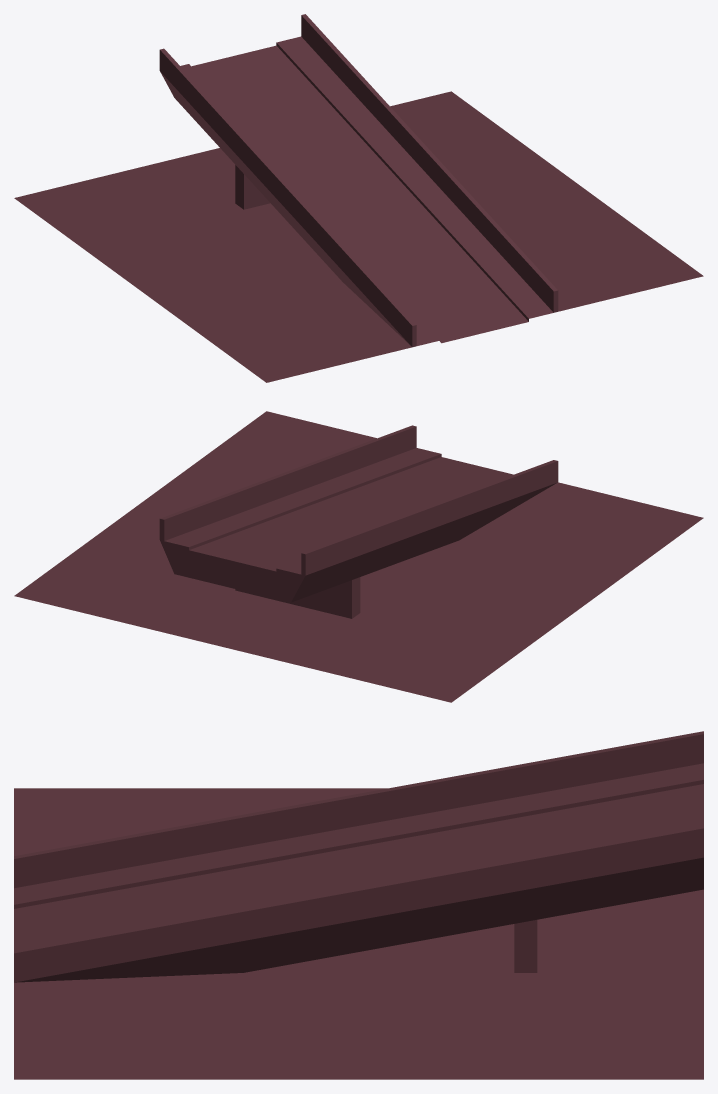
The model's file is tiles-nb-tile-bridge-road-hill-nb.glb.
3 views of the same model, one above another, from view 1: azimuth 30°, elevation 25°; view 2: azimuth 150°, elevation 25°; view 3: azimuth 270°, elevation 25° (orthographic). The views are drawn at different scales.
Parts seen in each view (by area): view 1: tile-bridge-road-hill-nb; view 2: tile-bridge-road-hill-nb; view 3: tile-bridge-road-hill-nb.
Boxes of the visible parts, <box> form: tile-bridge-road-hill-nb: <box>14,14,703,382</box>; tile-bridge-road-hill-nb: <box>14,411,703,702</box>; tile-bridge-road-hill-nb: <box>14,731,703,1079</box>.
Size of the model in its own units: 30 by 7.6 by 30.
